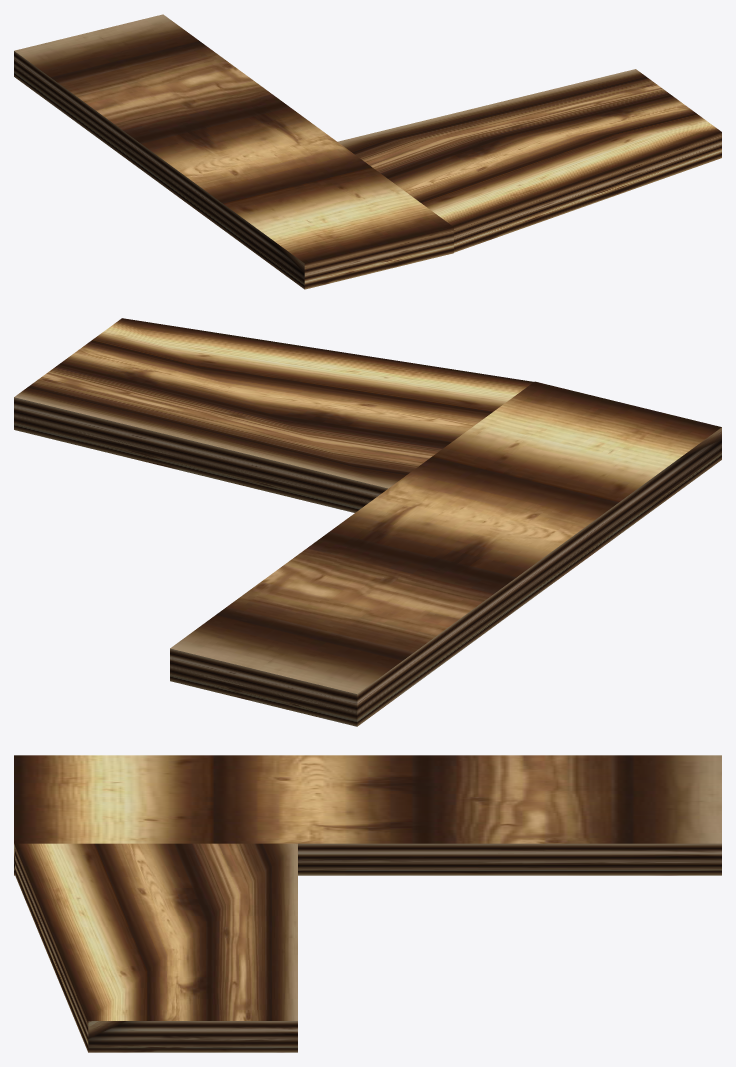
The model's file is M - Sharp No walls.obj.
3 views of the same model, one above another, from view 1: azimuth 30°, elevation 25°; view 2: azimuth 150°, elevation 25°; view 3: azimuth 270°, elevation 25° (orthographic). The views are drawn at different scales.
Parts seen in each view (by area): view 1: polySurface7; view 2: polySurface7; view 3: polySurface7.
Boxes of the visible parts, bbox=[...] form: polySurface7: bbox=[14, 14, 721, 289]; polySurface7: bbox=[14, 318, 721, 726]; polySurface7: bbox=[14, 755, 721, 1052].
Bounding box in the file's own units: 1260 × 70 × 1418.
